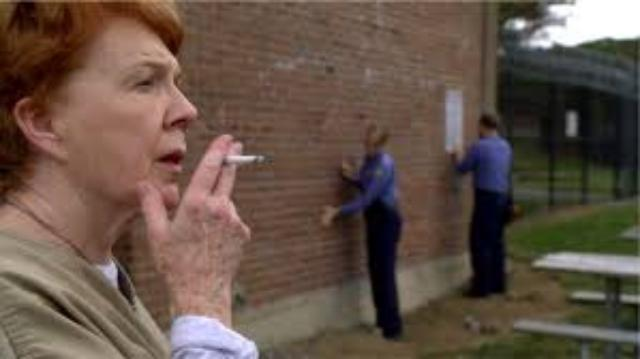Smoking: (216, 156, 266, 164)
